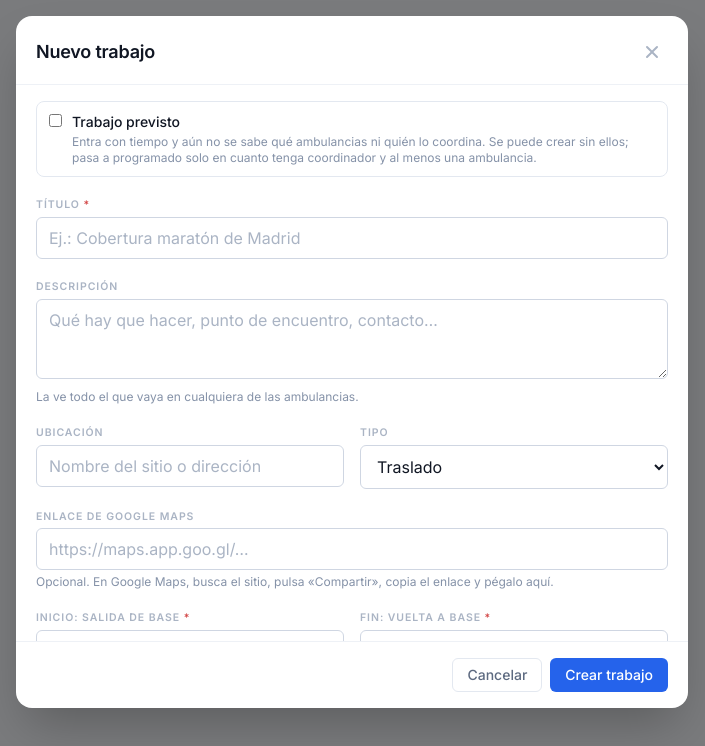
it: TrabajoForm · ubicación en Google Maps (v34) › un enlace que no es de Google Maps no deja guardar
Type "https://ejemplo.com" into the field with placeholder "https://maps.app.goo.gl/…".
click(352, 549); type("https://ejemplo.com")  # box [36, 528, 668, 570]
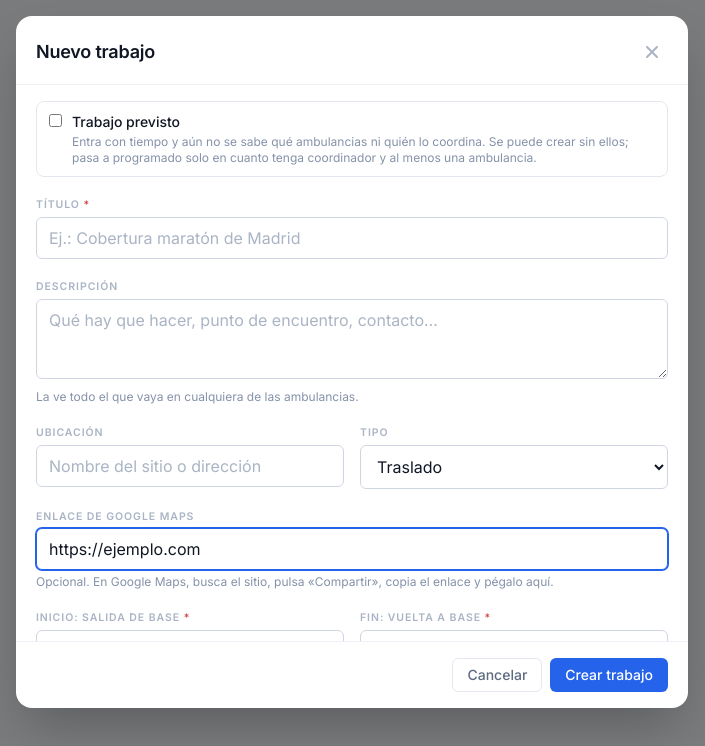
Click the button "Crear trabajo".
click(609, 675)  # box [550, 658, 668, 692]
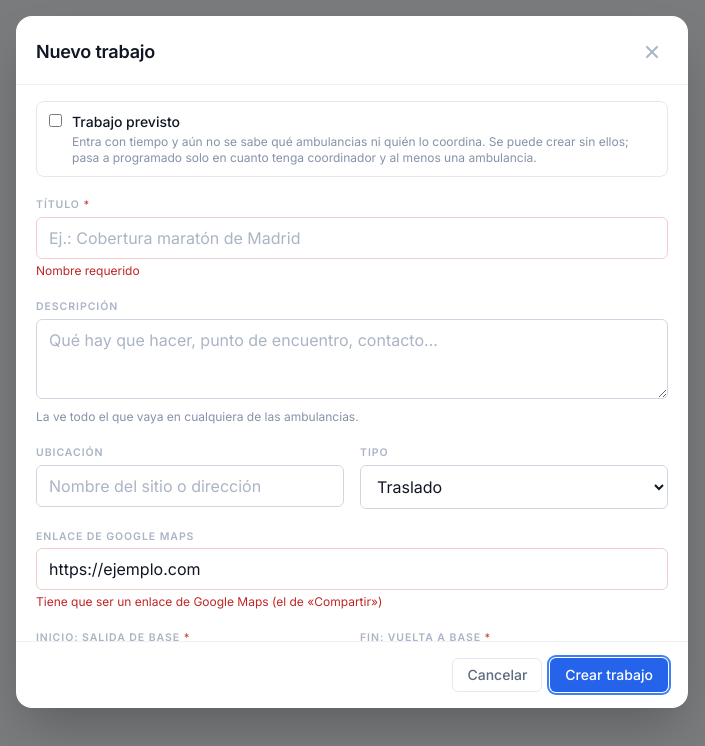
Now the text "Tiene que ser un enlace de Google Maps (el de «Compartir»)" is shown, box [36, 594, 382, 609]
